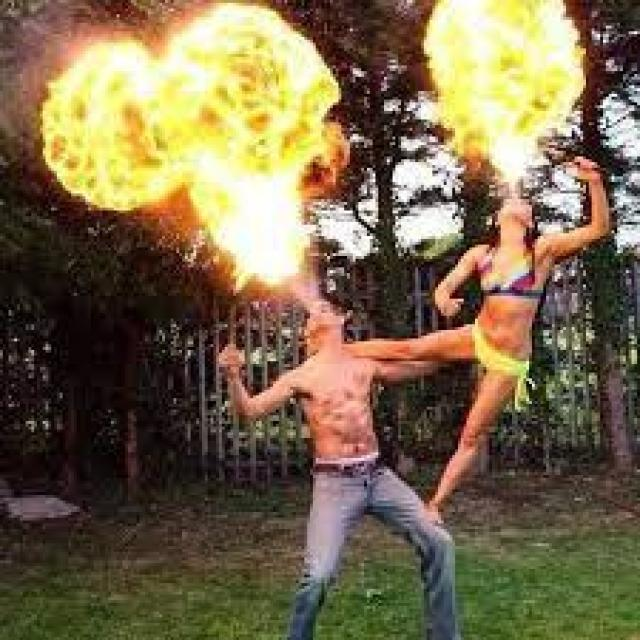fire: (164, 2, 352, 295), (421, 0, 583, 182), (39, 37, 179, 213)
